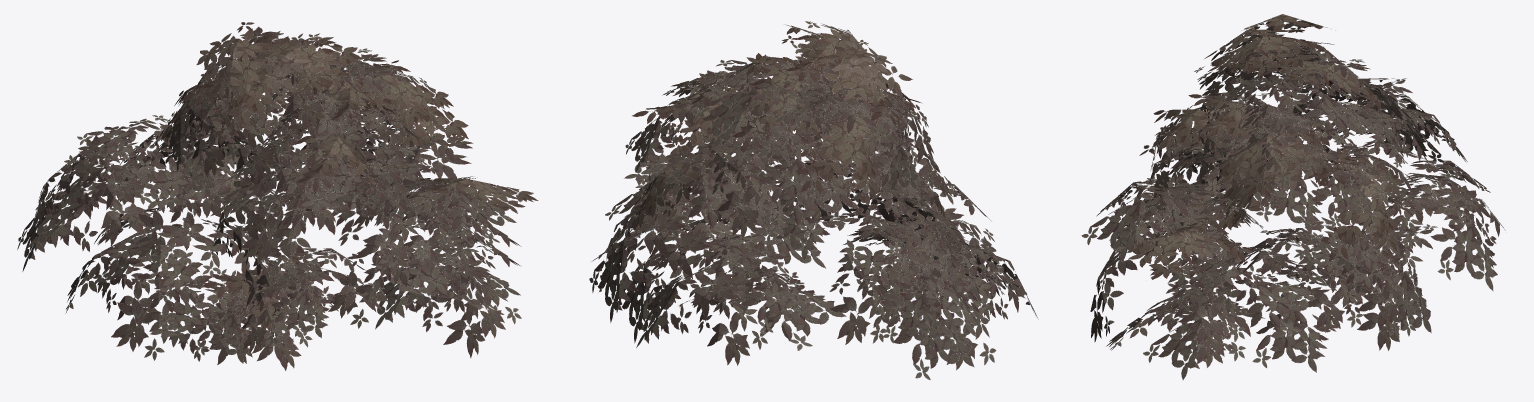
The model's file is Area10_23.fbx.
The picture shows the model from 3 angles, left to right: view 1: azimuth 30°, elevation 25°; view 2: azimuth 150°, elevation 25°; view 3: azimuth 270°, elevation 25°; orthographic projection. The views are drawn at different scales.
Parts seen in each view (by area): view 1: Area10_23; view 2: Area10_23; view 3: Area10_23.
Part boxes in pixels (bbox=[...]): Area10_23: bbox=[17, 22, 538, 370]; Area10_23: bbox=[589, 21, 1038, 379]; Area10_23: bbox=[1081, 14, 1505, 380].
Bounding box in the file's own units: 399 × 263 × 376.
